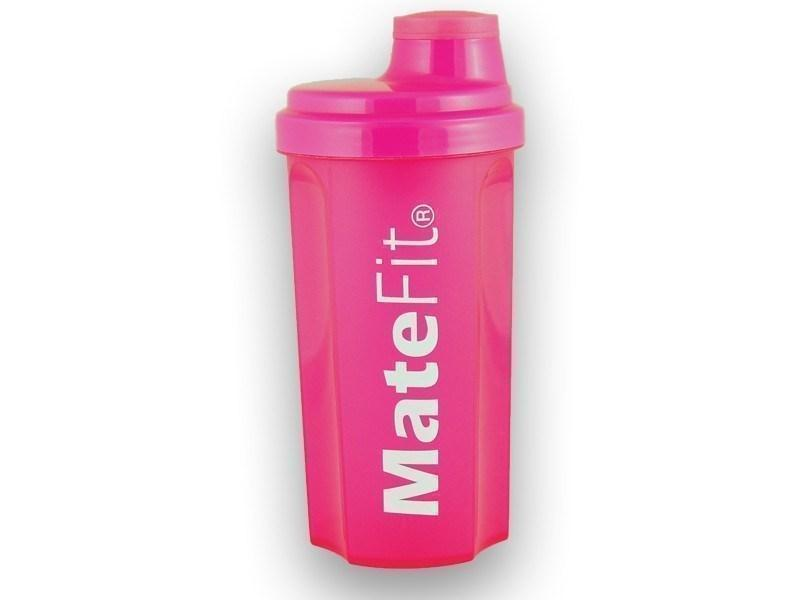gym bottle: (274, 10, 528, 575)
